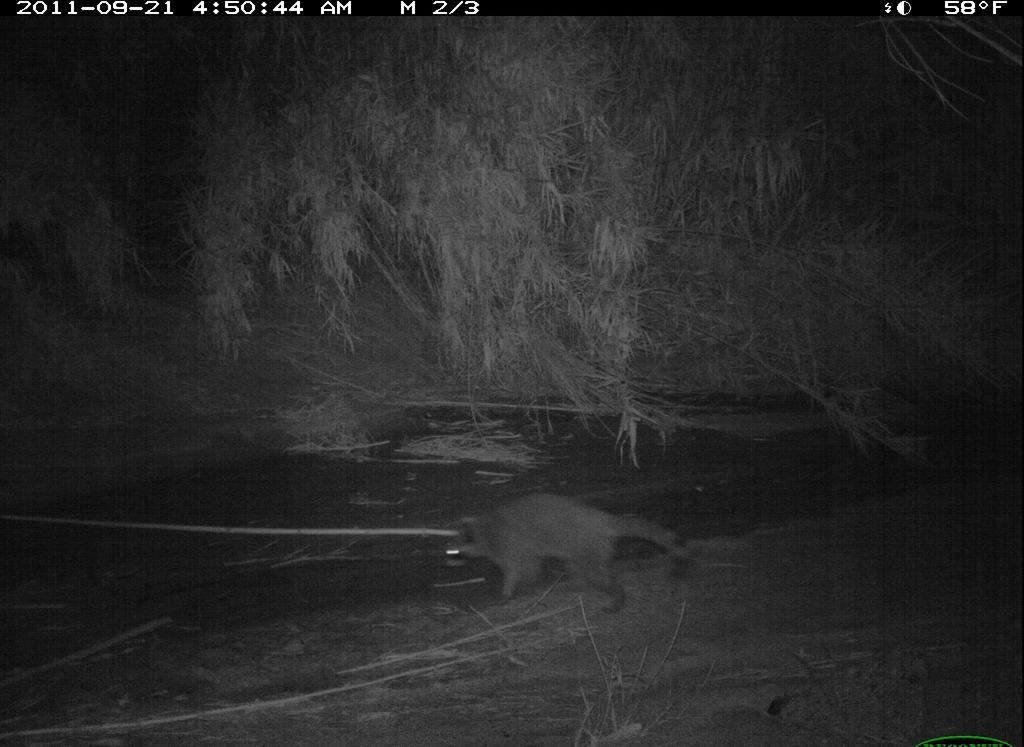raccoon: (432, 474, 706, 614)
